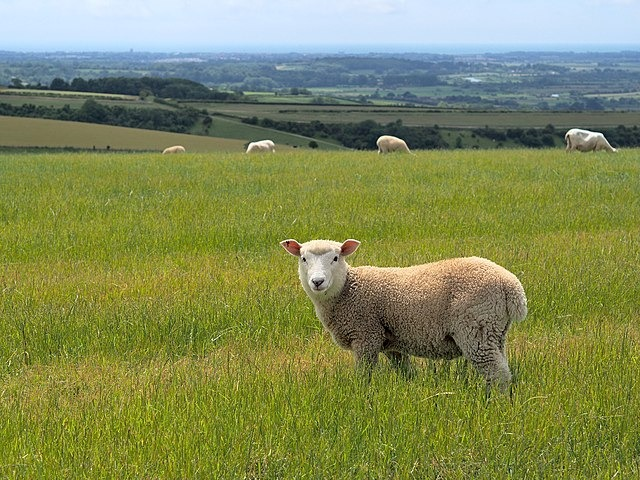grazing: (563, 127, 620, 159), (376, 132, 415, 157), (244, 137, 276, 160)
standing: (280, 239, 528, 395)
